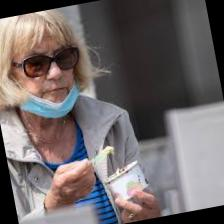mask_weared_incorrect: (18, 43, 90, 119)
